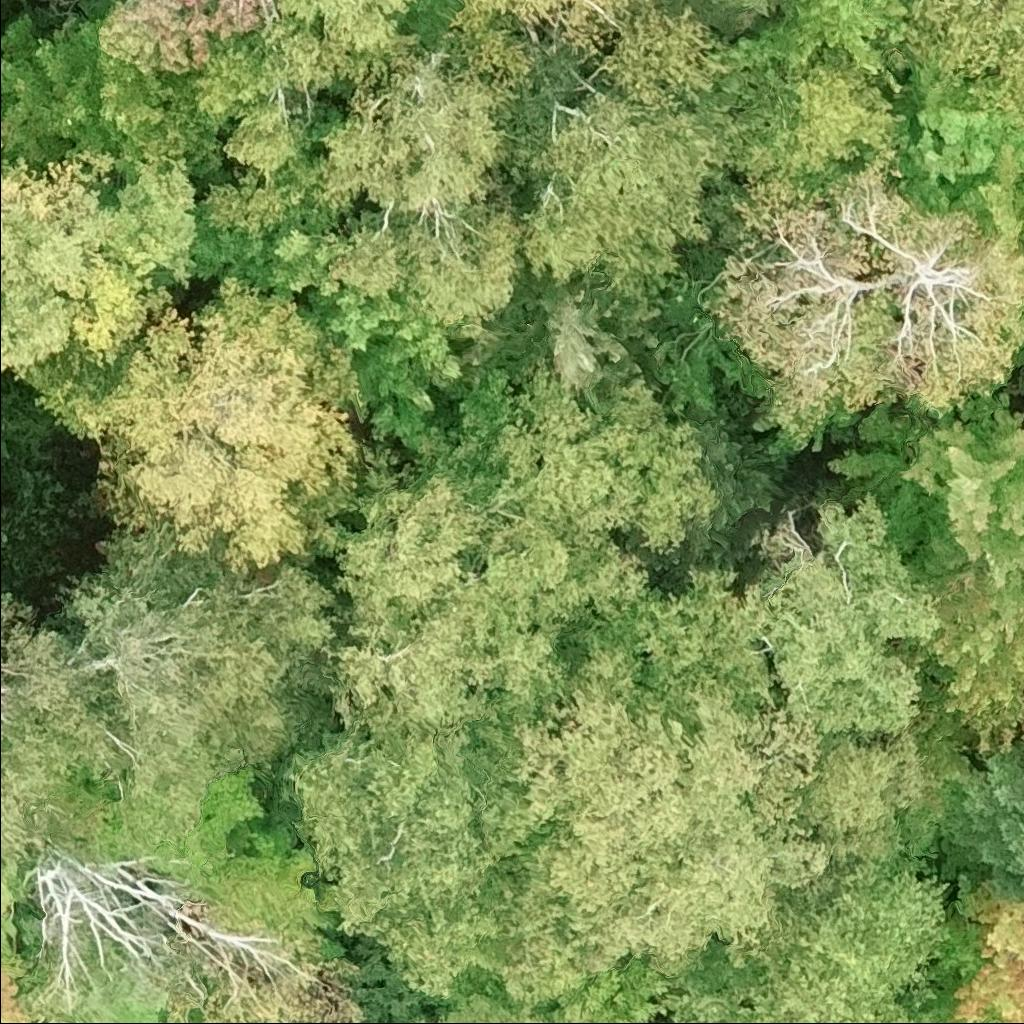crown: (494, 557, 836, 1002), (0, 520, 353, 871), (21, 275, 366, 572), (329, 445, 650, 732), (707, 165, 1023, 449), (282, 696, 538, 1003), (438, 352, 722, 556), (509, 84, 774, 301), (0, 120, 204, 385), (736, 493, 942, 746), (193, 0, 387, 241), (0, 0, 229, 180), (824, 387, 1023, 586), (311, 34, 527, 212), (800, 667, 981, 878), (448, 0, 731, 109), (765, 862, 958, 1002), (893, 566, 1023, 761), (744, 47, 909, 193), (331, 203, 525, 325), (678, 947, 935, 1023), (903, 0, 1023, 129), (933, 738, 1023, 900), (932, 878, 1023, 1023), (96, 0, 266, 74), (779, 0, 911, 75), (941, 140, 1023, 251), (272, 0, 419, 58), (0, 869, 45, 1023), (411, 995, 593, 1023), (694, 0, 782, 39), (112, 1002, 165, 1023), (0, 426, 3, 435), (690, 1023, 691, 1023)
